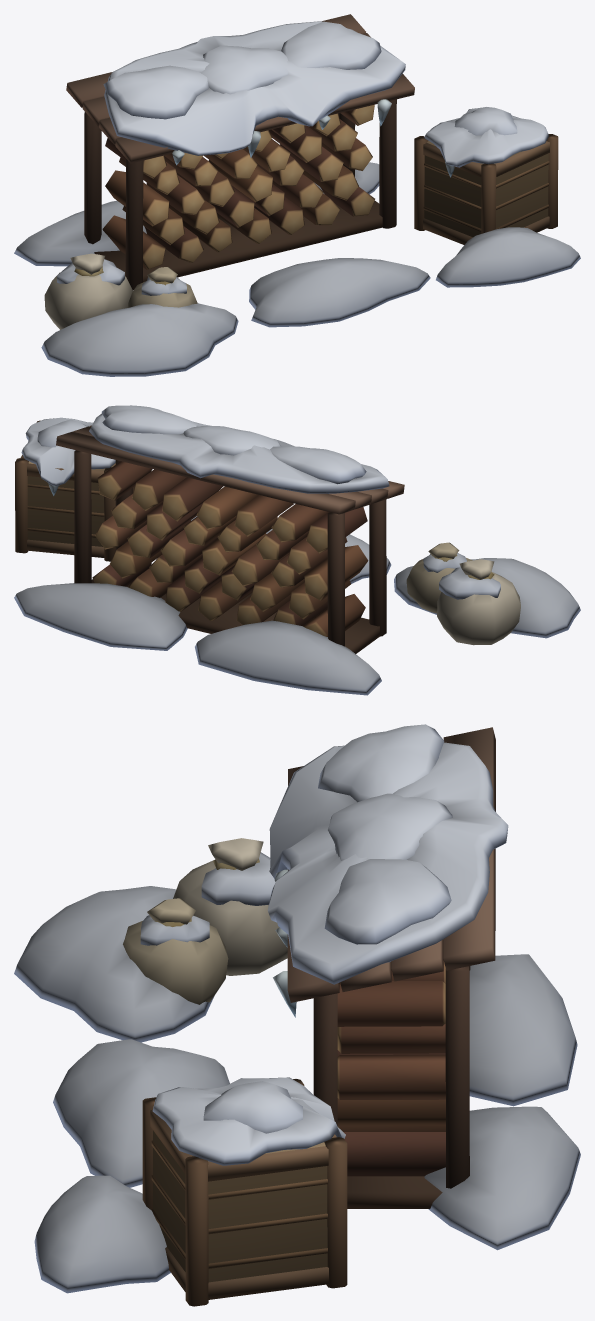
Rendered from dg-onsen-storePile.glb.
3 renders of one model, top to bottom at view 1: azimuth 30°, elevation 25°; view 2: azimuth 150°, elevation 25°; view 3: azimuth 270°, elevation 25°, orthographic. The views are drawn at different scales.
Visible parts, largest first — view 1: body; view 2: body; view 3: body.
Part boxes in pixels (bbox=[...]): body: bbox=[14, 14, 580, 376]; body: bbox=[14, 405, 580, 695]; body: bbox=[14, 724, 580, 1306].
Size of the model in its own units: 2.61 by 0.8954 by 1.55.
